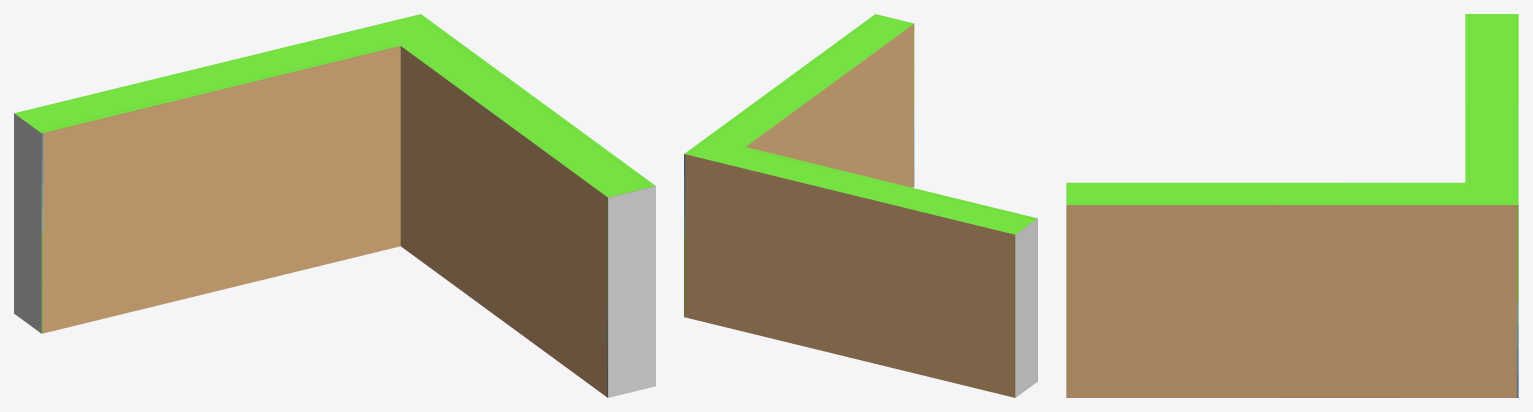
Rendered from MK_MK_Wall_Corner_In_Half_C.fbx.
The picture shows the model from 3 angles, left to right: view 1: azimuth 30°, elevation 25°; view 2: azimuth 150°, elevation 25°; view 3: azimuth 270°, elevation 25°; orthographic projection. The views are drawn at different scales.
Visible parts, largest first — view 1: MK_Wall_Corner_In_Half_C; view 2: MK_Wall_Corner_In_Half_C; view 3: MK_Wall_Corner_In_Half_C.
Boxes of the visible parts, left/top/right/bottom form: MK_Wall_Corner_In_Half_C: left=14, top=14, right=655, bottom=397; MK_Wall_Corner_In_Half_C: left=684, top=14, right=1037, bottom=397; MK_Wall_Corner_In_Half_C: left=1066, top=14, right=1518, bottom=397.
Bounding box in the file's own units: 191 × 90 × 191.
1 material, 1 textured.
